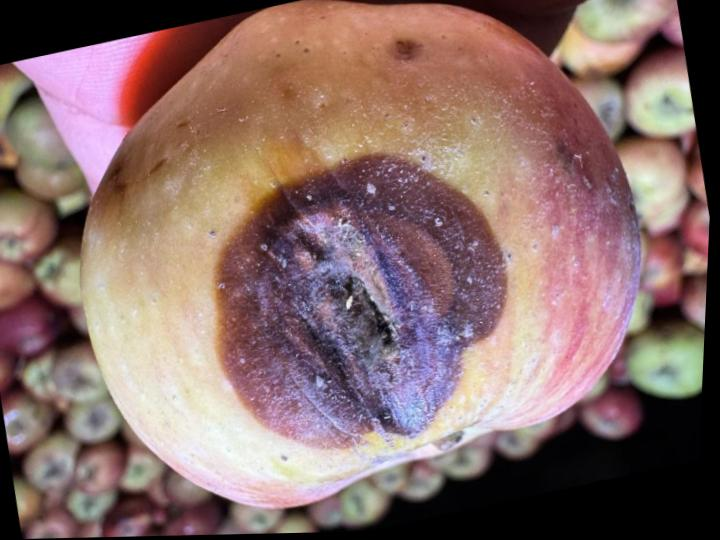apple: (80, 0, 640, 508)
rot_mold_decay: (216, 156, 506, 448)
